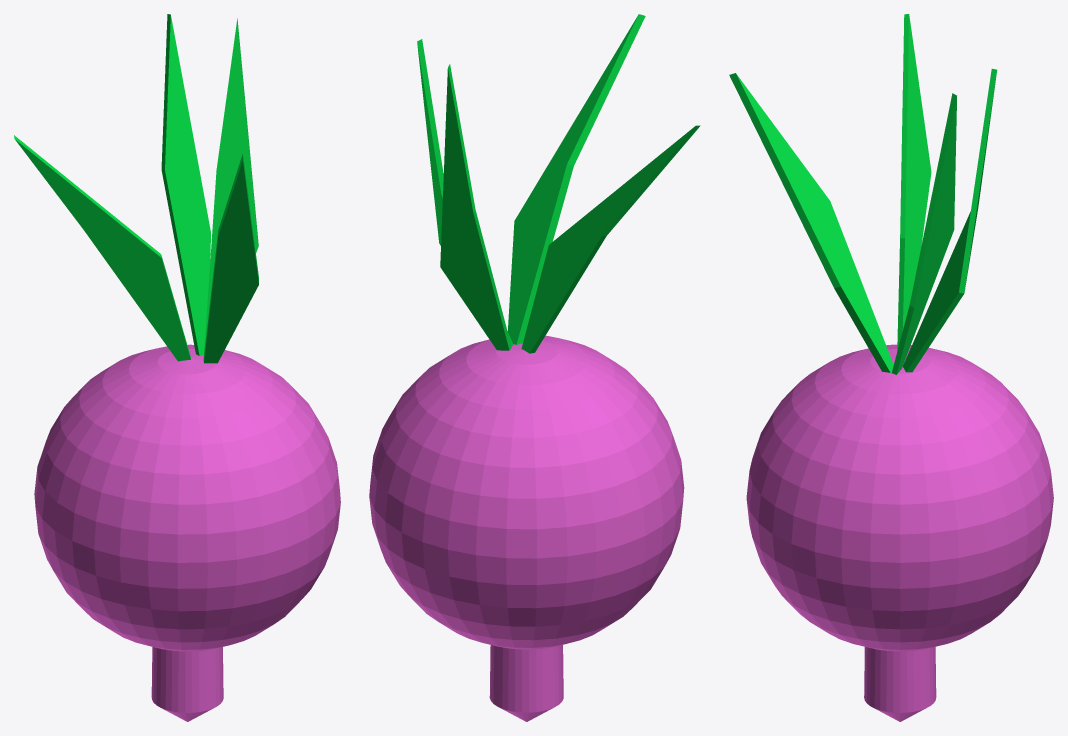
File: Radish crop .fbx
The picture shows the model from 3 angles, left to right: view 1: azimuth 30°, elevation 25°; view 2: azimuth 150°, elevation 25°; view 3: azimuth 270°, elevation 25°; orthographic projection. The views are drawn at different scales.
Parts seen in each view (by area): view 1: Sphere, Plane.003, Plane.001, Plane, Plane.002; view 2: Sphere, Plane, Plane.003, Plane.001, Plane.002; view 3: Sphere, Plane, Plane.001, Plane.002, Plane.003.
Boxes of the visible parts, x1,y1,x2,y2 form: Sphere: (34,344,340,721); Plane.003: (161,14,210,355); Plane.001: (14,135,190,361); Plane: (203,154,258,363); Plane.002: (204,18,258,353); Sphere: (369,335,684,721); Plane: (507,14,645,344); Plane.003: (440,64,511,350); Plane.001: (521,125,700,353); Plane.002: (417,39,513,345); Sphere: (746,344,1053,721); Plane: (729,73,893,372); Plane.001: (897,14,931,350); Plane.002: (892,93,956,374); Plane.003: (903,68,997,372).
Size of the model in its own units: 242 by 508 by 224.
